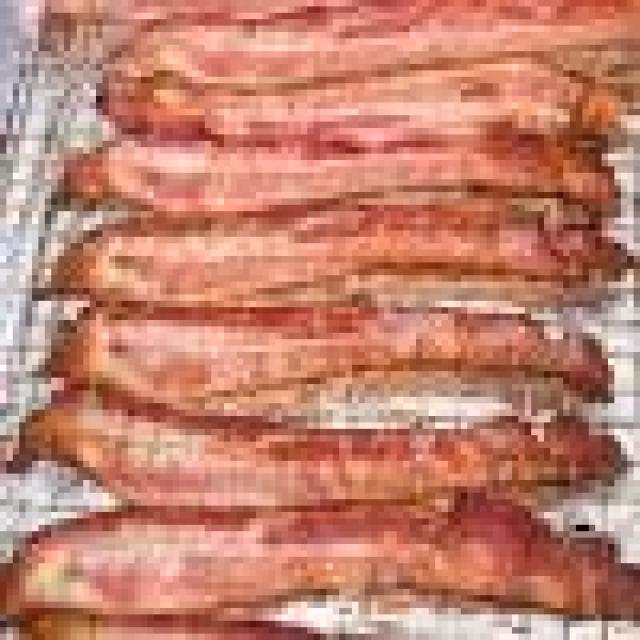Bacon: (24, 498, 619, 640), (108, 210, 548, 291)
